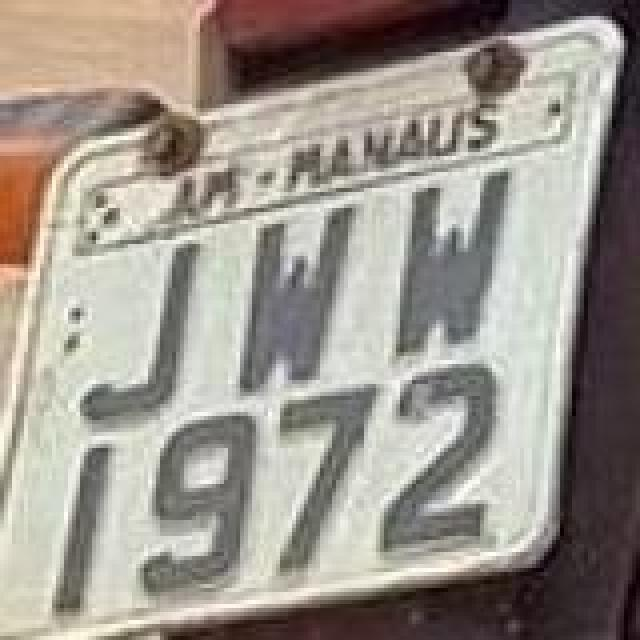1: (50, 440, 110, 616)
2: (376, 360, 504, 552)
7: (276, 384, 380, 576)
9: (136, 410, 264, 598)
J: (76, 236, 204, 420)
W: (232, 204, 360, 396), (396, 168, 516, 360)
